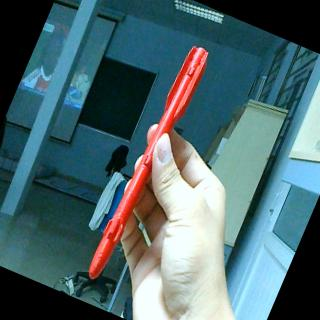Rocket: (83, 37, 214, 289)
